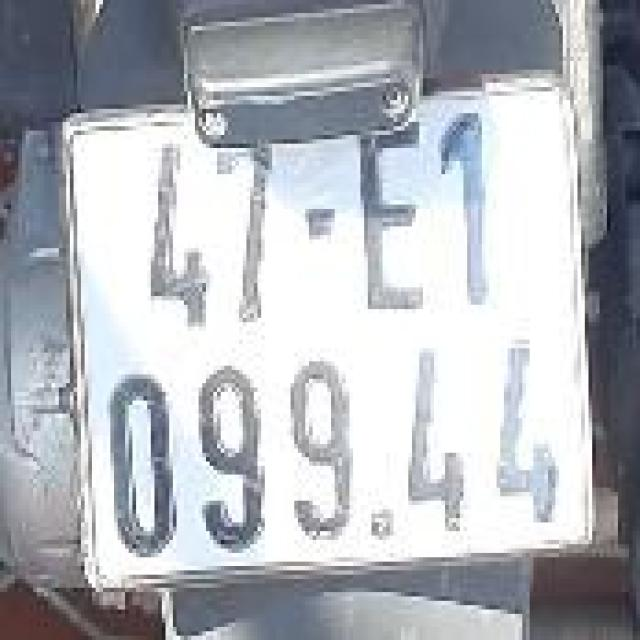0: (103, 366, 191, 570)
1: (431, 104, 496, 331)
4: (484, 322, 572, 536), (136, 131, 224, 335), (397, 348, 482, 558)
7: (213, 142, 294, 346)
9: (279, 353, 368, 557), (193, 359, 278, 564)
E: (338, 111, 423, 329)
